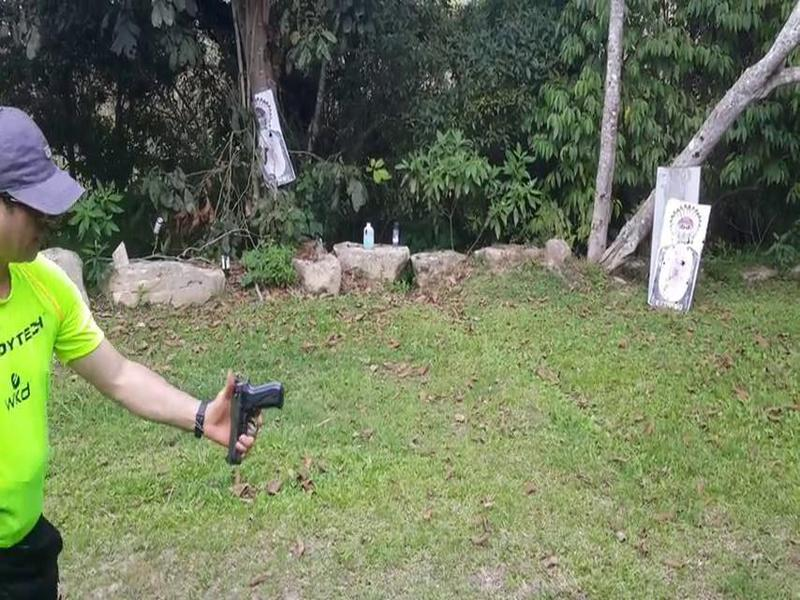Pistola: (221, 377, 287, 468)
